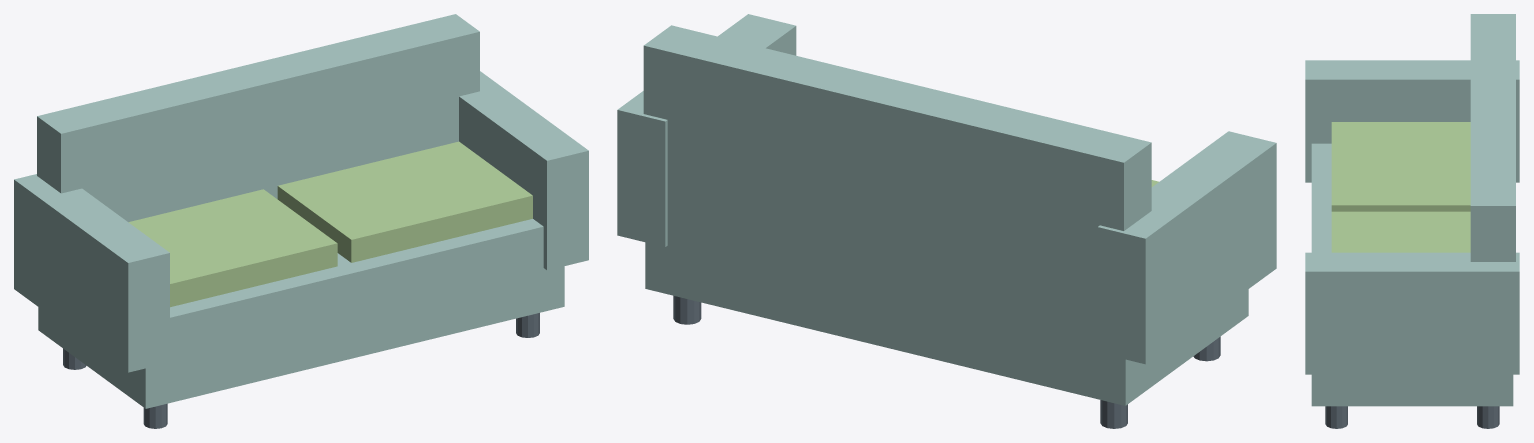
The model's file is sofa.glb.
The picture shows the model from 3 angles, left to right: view 1: azimuth 30°, elevation 25°; view 2: azimuth 150°, elevation 25°; view 3: azimuth 270°, elevation 25°; orthographic projection. The views are drawn at different scales.
Parts seen in each view (by area): view 1: sofa_005, sofa_004, sofa_006, sofa_009, sofa_008, sofa_007, sofa_000; view 2: sofa_005, sofa_006, sofa_004, sofa_007, sofa_003, sofa_001; view 3: sofa_007, sofa_008, sofa_006, sofa_005, sofa_004, sofa_009, sofa_002, sofa_003.
Boxes of the visible parts, bbox=[...] form: sofa_005: bbox=[37, 14, 479, 222]; sofa_004: bbox=[38, 219, 564, 408]; sofa_006: bbox=[14, 174, 169, 372]; sofa_009: bbox=[277, 141, 532, 262]; sofa_008: bbox=[128, 189, 337, 307]; sofa_007: bbox=[459, 71, 588, 270]; sofa_000: bbox=[143, 403, 167, 428]; sofa_005: bbox=[643, 25, 1151, 351]; sofa_006: bbox=[1097, 131, 1276, 364]; sofa_004: bbox=[645, 242, 1248, 405]; sofa_007: bbox=[617, 14, 796, 246]; sofa_003: bbox=[673, 295, 701, 324]; sofa_001: bbox=[1100, 400, 1127, 428]; sofa_007: bbox=[1305, 252, 1519, 374]; sofa_008: bbox=[1331, 122, 1470, 211]; sofa_006: bbox=[1305, 60, 1519, 182]; sofa_005: bbox=[1470, 14, 1515, 261]; sofa_004: bbox=[1311, 143, 1513, 406]; sofa_009: bbox=[1331, 211, 1470, 252]; sofa_002: bbox=[1325, 406, 1347, 428]; sofa_003: bbox=[1477, 406, 1499, 428].
Size of the model in its own units: 1.98 by 1 by 0.85.
